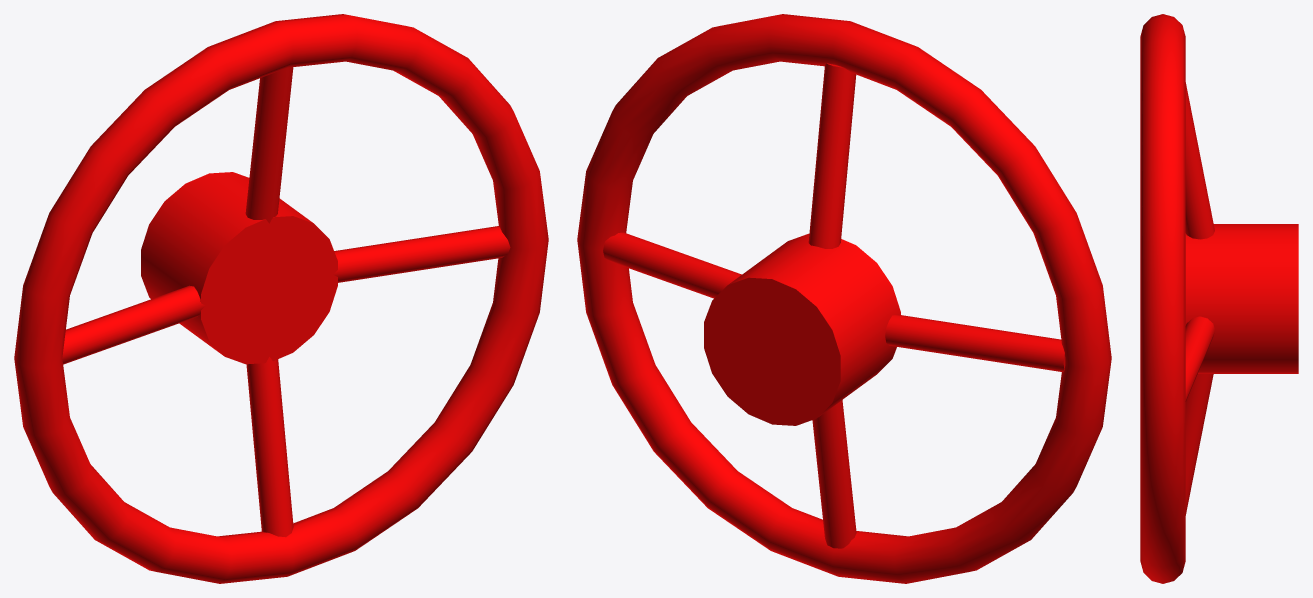
The model's file is valve.FBX.
The picture shows the model from 3 angles, left to right: view 1: azimuth 30°, elevation 25°; view 2: azimuth 150°, elevation 25°; view 3: azimuth 270°, elevation 25°; orthographic projection. The views are drawn at different scales.
Visible parts, largest first — view 1: Cylinder001; view 2: Cylinder001; view 3: Cylinder001.
Boxes of the visible parts, x1,y1,x2,y2 form: Cylinder001: [14, 14, 548, 583]; Cylinder001: [577, 14, 1111, 583]; Cylinder001: [1140, 14, 1298, 583].
Bounding box in the file's own units: 76 × 76 × 21.
